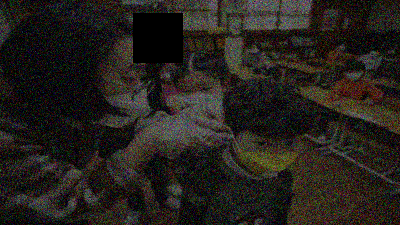with_mask: (95, 60, 151, 130), (231, 128, 301, 179), (176, 77, 224, 110), (158, 61, 176, 84), (344, 67, 365, 84), (370, 49, 381, 59), (250, 46, 259, 55), (339, 45, 347, 52)
